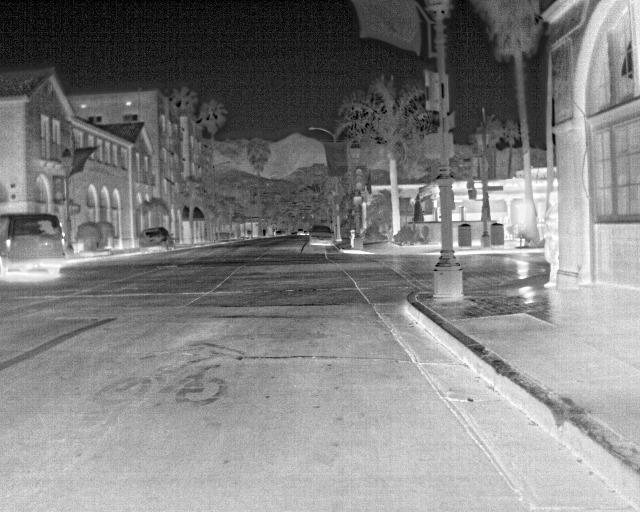bicycle: (1, 212, 65, 277), (137, 225, 177, 253), (308, 223, 338, 246)
empty: (540, 191, 562, 288)
